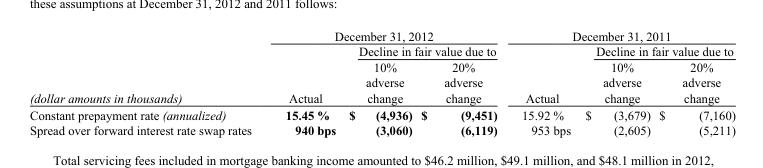table: (28, 28, 734, 137)
table column: (28, 28, 267, 137), (415, 28, 508, 137), (654, 28, 734, 137), (577, 28, 654, 137), (267, 28, 341, 137), (341, 28, 415, 137), (508, 28, 577, 137)
table column header: (28, 28, 734, 106)
table row: (28, 58, 734, 106), (28, 106, 734, 122), (28, 28, 734, 43), (28, 43, 734, 58), (28, 122, 734, 137)
table spanning cell: (28, 28, 267, 106), (267, 43, 341, 106), (508, 43, 577, 106), (267, 28, 508, 43), (508, 28, 734, 43), (341, 43, 508, 58), (577, 43, 734, 58)
